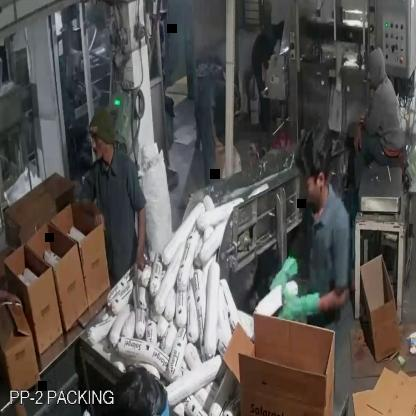glove: (250, 248, 304, 309), (276, 286, 330, 334)
no_glove: (74, 178, 109, 236), (134, 196, 156, 282), (352, 106, 371, 166)
